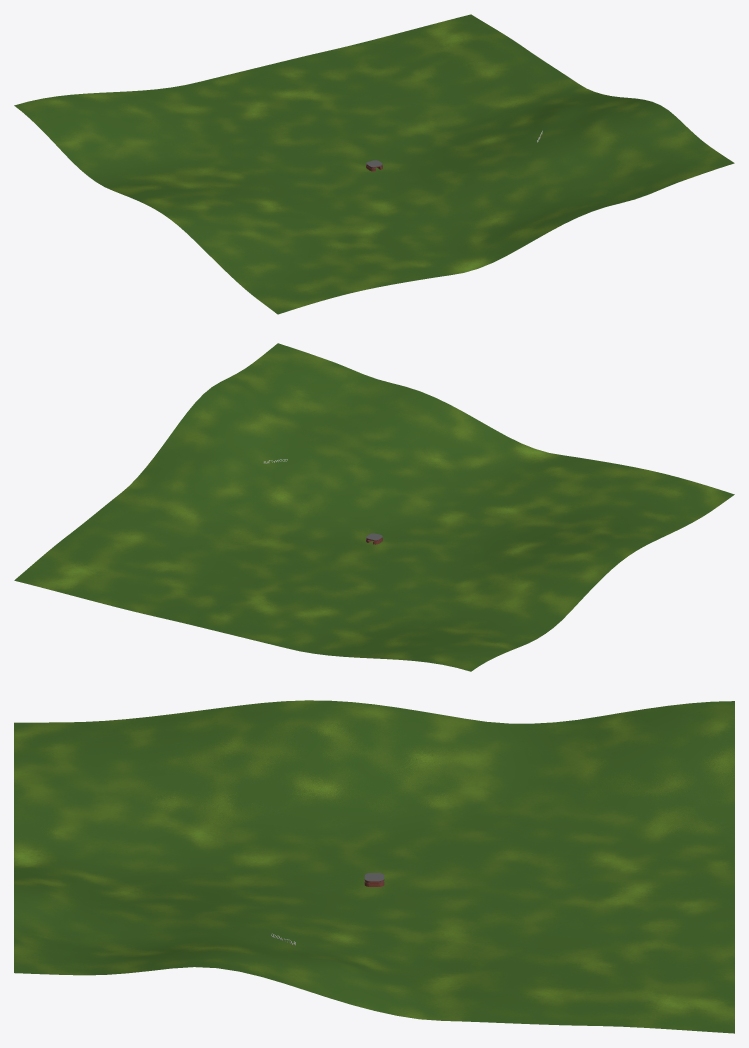
Rendered from cm_flatgrass.obj.
3 renders of one model, top to bottom at view 1: azimuth 30°, elevation 25°; view 2: azimuth 150°, elevation 25°; view 3: azimuth 270°, elevation 25°, orthographic. The views are drawn at different scales.
Parts seen in each view (by area): view 1: Terrain_Plane; view 2: Terrain_Plane; view 3: Terrain_Plane.
Part boxes in pixels (x1,y1,x2,y2): Terrain_Plane: (14, 14, 734, 314); Terrain_Plane: (14, 343, 734, 671); Terrain_Plane: (14, 700, 734, 1033).
Bounding box in the file's own units: 972 × 102 × 972.
Materials: 4 (3 with a texture image).
